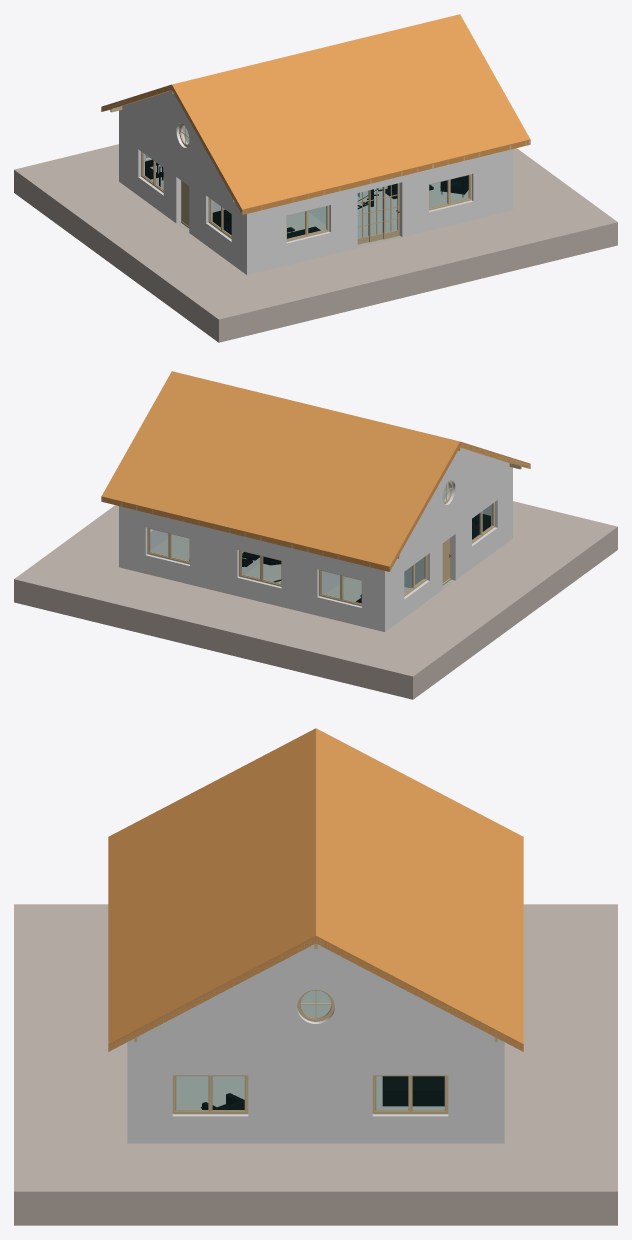
The model's file is house.glb.
3 views of the same model, one above another, from view 1: azimuth 30°, elevation 25°; view 2: azimuth 150°, elevation 25°; view 3: azimuth 270°, elevation 25° (orthographic). The views are drawn at different scales.
Parts seen in each view (by area): view 1: 2IxUUNUVPB6Ob$eicCfP2N, 0KMpiAlnb52RgQuM1CwVfd, 16DNNqzfP2thtfaOflvsKA, 3rPX_Juz59peXXY6wDJl18, 0knNIAVBPBFvBy_m5QVHsU, 1pPHnf7cXCpPsNEnQf8_6B, 1M$gxUrX1Fiwe3P64ww7U5, 07Enbsqm9C7AQC9iyBwfSD; view 2: 07Enbsqm9C7AQC9iyBwfSD, 0KMpiAlnb52RgQuM1CwVfd, 1bzfVsJqn8De5PukCrqylz, 3rPX_Juz59peXXY6wDJl18, 0knNIAVBPBFvBy_m5QVHsU, 1pPHnf7cXCpPsNEnQf8_6B, 2IxUUNUVPB6Ob$eicCfP2N; view 3: 0KMpiAlnb52RgQuM1CwVfd, 2IxUUNUVPB6Ob$eicCfP2N, 07Enbsqm9C7AQC9iyBwfSD, 25fsbPyk15VvuXI$yNKenK, 3VCarUKgH1buLo22Ozxe6J, 1pPHnf7cXCpPsNEnQf8_6B, 3CF666a3P6svf9FiTvqQHX, 2EQh_jhP1B_A_AMuSJc5E0, 13aSY79zb8fP4HApEJ0z_e, 2IuD6UufP6YgRoFmwdoClQ.
Part boxes in pixels (box(x1,y1,x2,y2)): 2IxUUNUVPB6Ob$eicCfP2N: box(172, 14, 530, 214); 0KMpiAlnb52RgQuM1CwVfd: box(14, 144, 617, 342); 16DNNqzfP2thtfaOflvsKA: box(247, 149, 512, 274); 3rPX_Juz59peXXY6wDJl18: box(119, 119, 246, 274); 0knNIAVBPBFvBy_m5QVHsU: box(119, 91, 236, 204); 1pPHnf7cXCpPsNEnQf8_6B: box(151, 177, 468, 247); 1M$gxUrX1Fiwe3P64ww7U5: box(357, 183, 399, 244); 07Enbsqm9C7AQC9iyBwfSD: box(101, 84, 171, 111); 07Enbsqm9C7AQC9iyBwfSD: box(101, 371, 459, 571); 0KMpiAlnb52RgQuM1CwVfd: box(14, 501, 617, 699); 1bzfVsJqn8De5PukCrqylz: box(119, 506, 384, 631); 3rPX_Juz59peXXY6wDJl18: box(385, 476, 512, 631); 0knNIAVBPBFvBy_m5QVHsU: box(395, 448, 512, 561); 1pPHnf7cXCpPsNEnQf8_6B: box(150, 534, 454, 601); 2IxUUNUVPB6Ob$eicCfP2N: box(460, 441, 530, 468); 0KMpiAlnb52RgQuM1CwVfd: box(14, 904, 617, 1225); 2IxUUNUVPB6Ob$eicCfP2N: box(108, 728, 315, 1051); 07Enbsqm9C7AQC9iyBwfSD: box(316, 728, 523, 1051); 25fsbPyk15VvuXI$yNKenK: box(127, 1051, 504, 1143); 3VCarUKgH1buLo22Ozxe6J: box(127, 944, 504, 1051); 1pPHnf7cXCpPsNEnQf8_6B: box(176, 1076, 444, 1109); 3CF666a3P6svf9FiTvqQHX: box(382, 1076, 444, 1106); 2EQh_jhP1B_A_AMuSJc5E0: box(172, 1075, 248, 1114); 13aSY79zb8fP4HApEJ0z_e: box(372, 1075, 448, 1114); 2IuD6UufP6YgRoFmwdoClQ: box(300, 990, 331, 1017).
Size of the model in its own units: 18 by 7.32 by 16.
